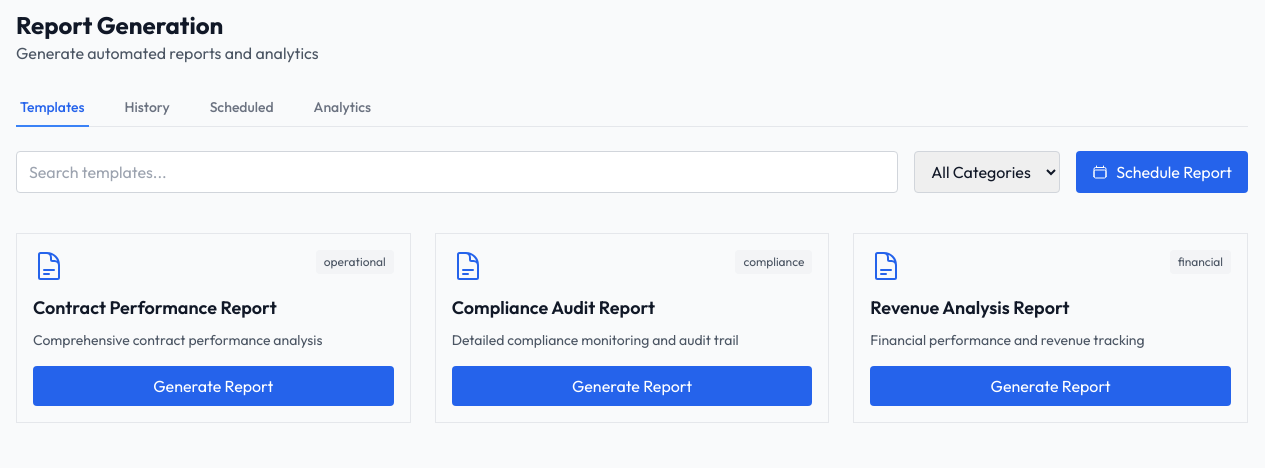
it: ReportGenerationSystem › Report Templates › should filter templates by category
Select "Compliance" in the dropdown named "category" at (987, 172), box [914,151,1060,193]
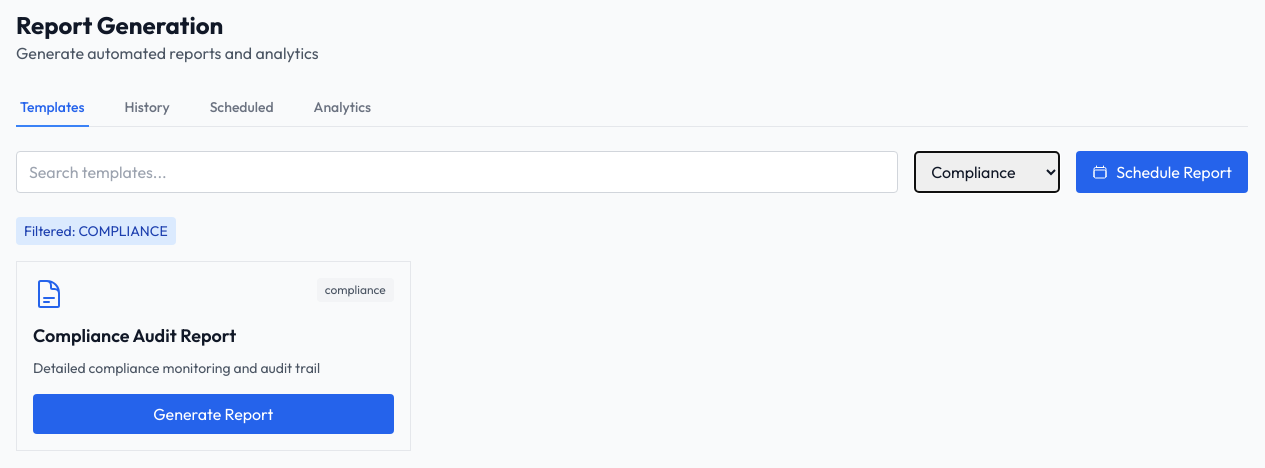
Check: the heading "Compliance Audit Report" is shown, box [33,324,236,347]
Check: the heading "Contract Performance Report" is gone
